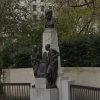Statue: (23, 28, 69, 96)
